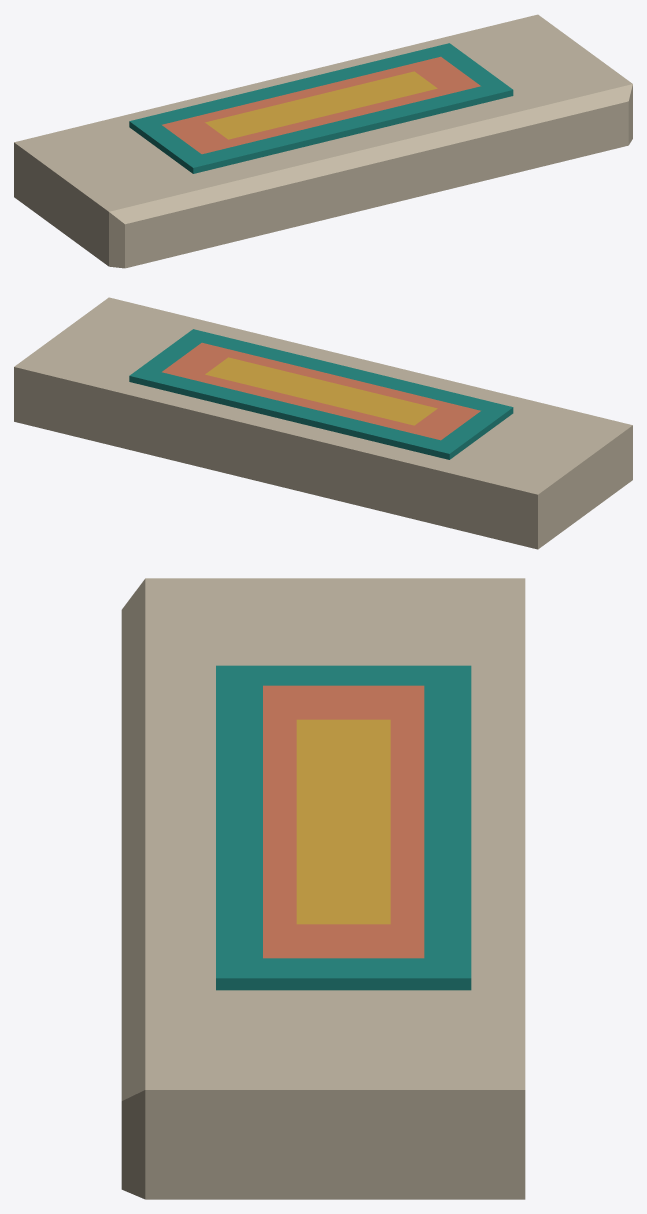
File: kapi_basamagi.glb
3 renders of one model, top to bottom at view 1: azimuth 30°, elevation 25°; view 2: azimuth 150°, elevation 25°; view 3: azimuth 270°, elevation 25°, orthographic. The views are drawn at different scales.
Visible parts, largest first — view 1: kapi_basamagi; view 2: kapi_basamagi; view 3: kapi_basamagi.
Boxes of the visible parts, <box> form: kapi_basamagi: <box>14,14,632,268</box>; kapi_basamagi: <box>14,297,632,549</box>; kapi_basamagi: <box>121,578,525,1199</box>.
Bounding box in the file's own units: 1.8 × 0.2 × 0.6.
